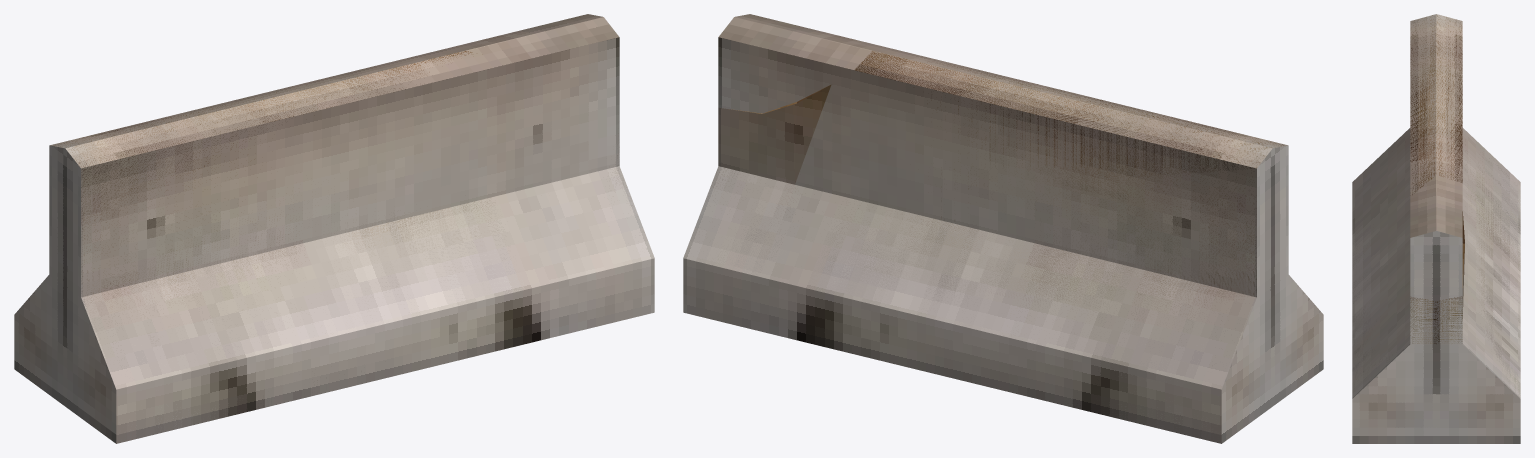
Rendered from psx_style_concrete_barriers.glb.
The picture shows the model from 3 angles, left to right: view 1: azimuth 30°, elevation 25°; view 2: azimuth 150°, elevation 25°; view 3: azimuth 270°, elevation 25°; orthographic projection. The views are drawn at different scales.
Parts seen in each view (by area): view 1: jersey_a, jersey_broken_a, jersey_broken_b; view 2: jersey_a, jersey_broken_b, jersey_broken_a; view 3: jersey_a, jersey_broken_b, jersey_broken_a.
Part boxes in pixels (x1,y1,x2,y2): jersey_a: [14, 14, 654, 443]; jersey_broken_a: [14, 14, 647, 443]; jersey_broken_b: [58, 51, 647, 441]; jersey_a: [683, 14, 1310, 443]; jersey_broken_b: [699, 51, 1283, 441]; jersey_broken_a: [703, 14, 1323, 443]; jersey_a: [1352, 14, 1520, 443]; jersey_broken_b: [1352, 15, 1520, 397]; jersey_broken_a: [1352, 14, 1520, 443].
Size of the model in its own units: 2.98 by 1.36 by 0.9773.
Materials: 1 (1 with a texture image).
